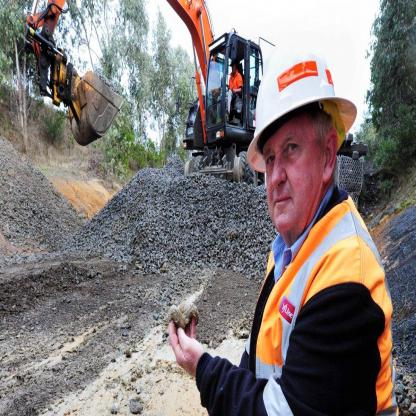person: (173, 31, 401, 415)
